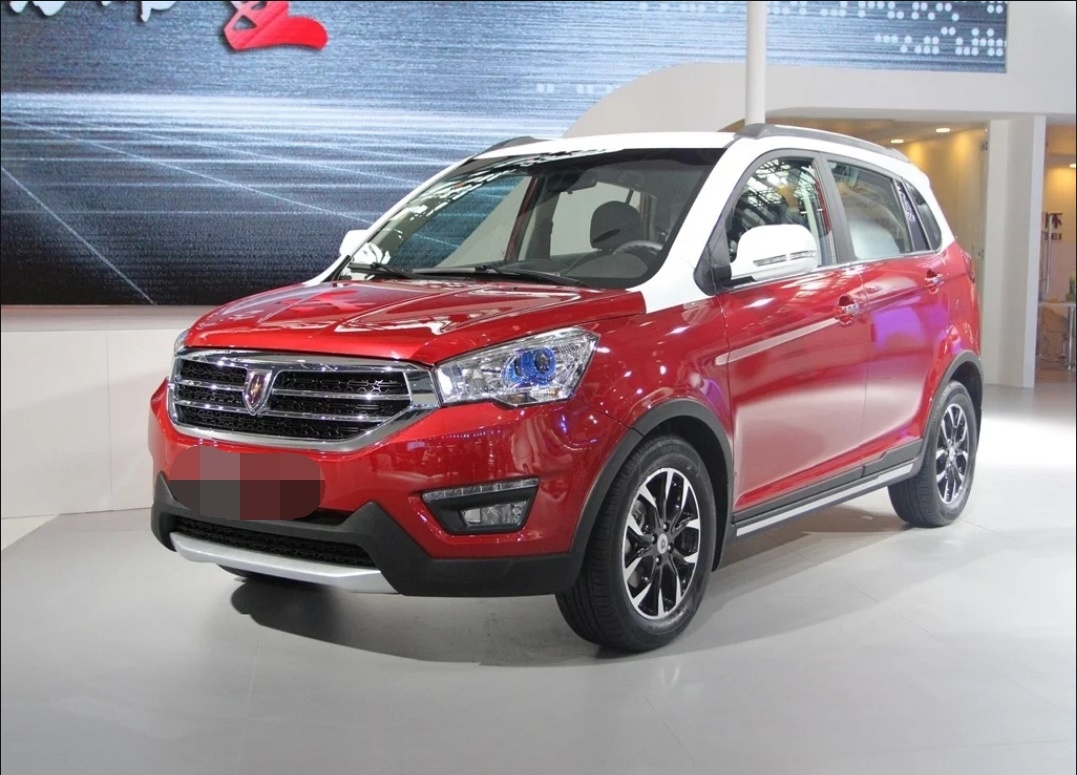SUV: (150, 107, 993, 646)
